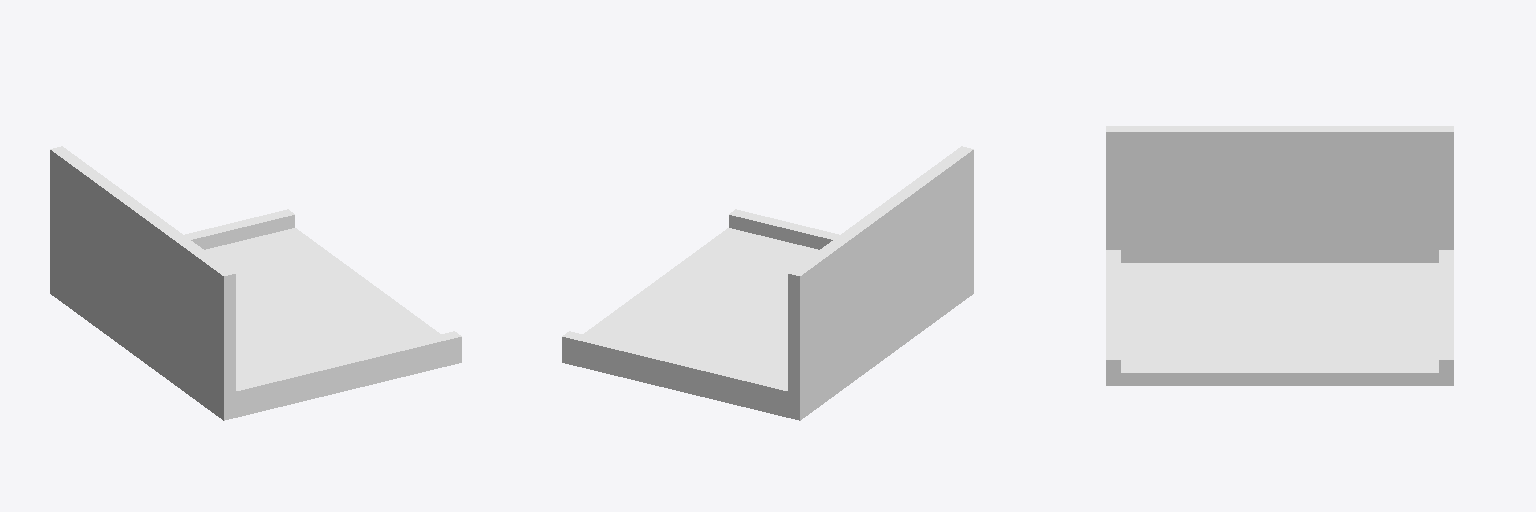
File: spawn.obj
3 renders of one model, left to right at view 1: azimuth 30°, elevation 25°; view 2: azimuth 150°, elevation 25°; view 3: azimuth 270°, elevation 25°, orthographic.
Parts seen in each view (by area): view 1: object 1; view 2: object 1; view 3: object 1.
Boxes of the visible parts, <box> form: object 1: <box>50,146,461,420</box>; object 1: <box>562,146,973,420</box>; object 1: <box>1106,126,1453,385</box>.
Bounding box in the file's own units: 1.9 × 1.1 × 2.4.